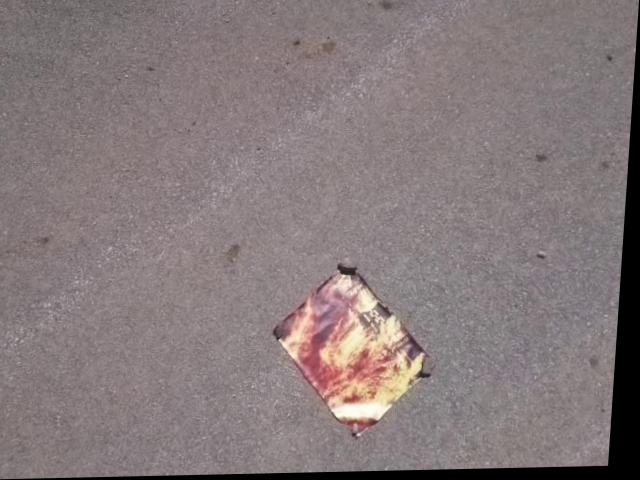fire-poster: (270, 261, 442, 443)
